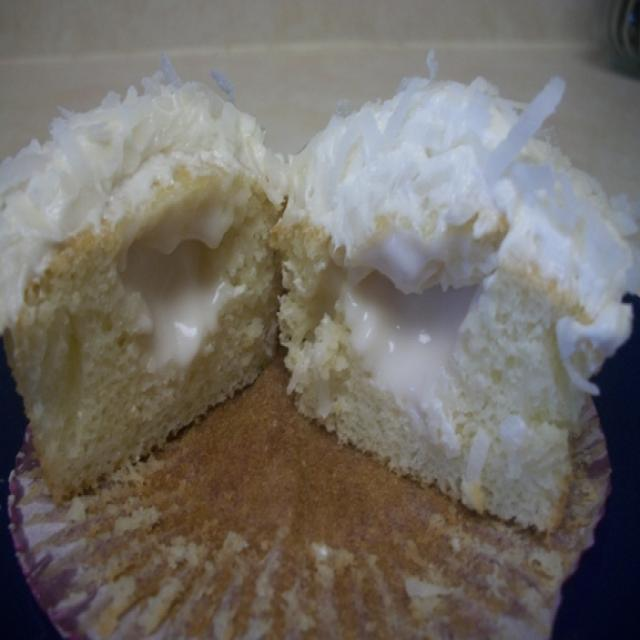蛋糕甜品: (13, 74, 606, 612)
